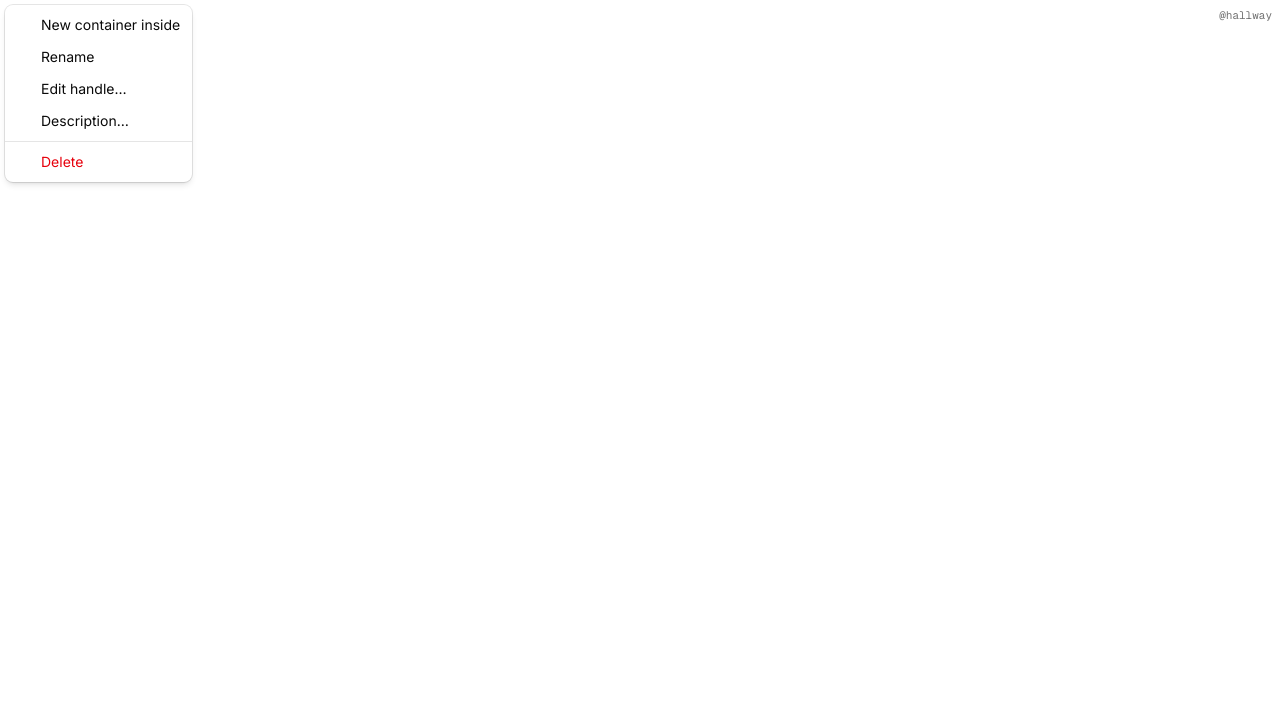
Test: deleting a scene with shots › counts its shots from the tree already loaded, fetching nothing
The width and height of the screenshot is (1280, 720).
Click the menu item "Delete": coordinates (62, 162) [41,153,83,170]
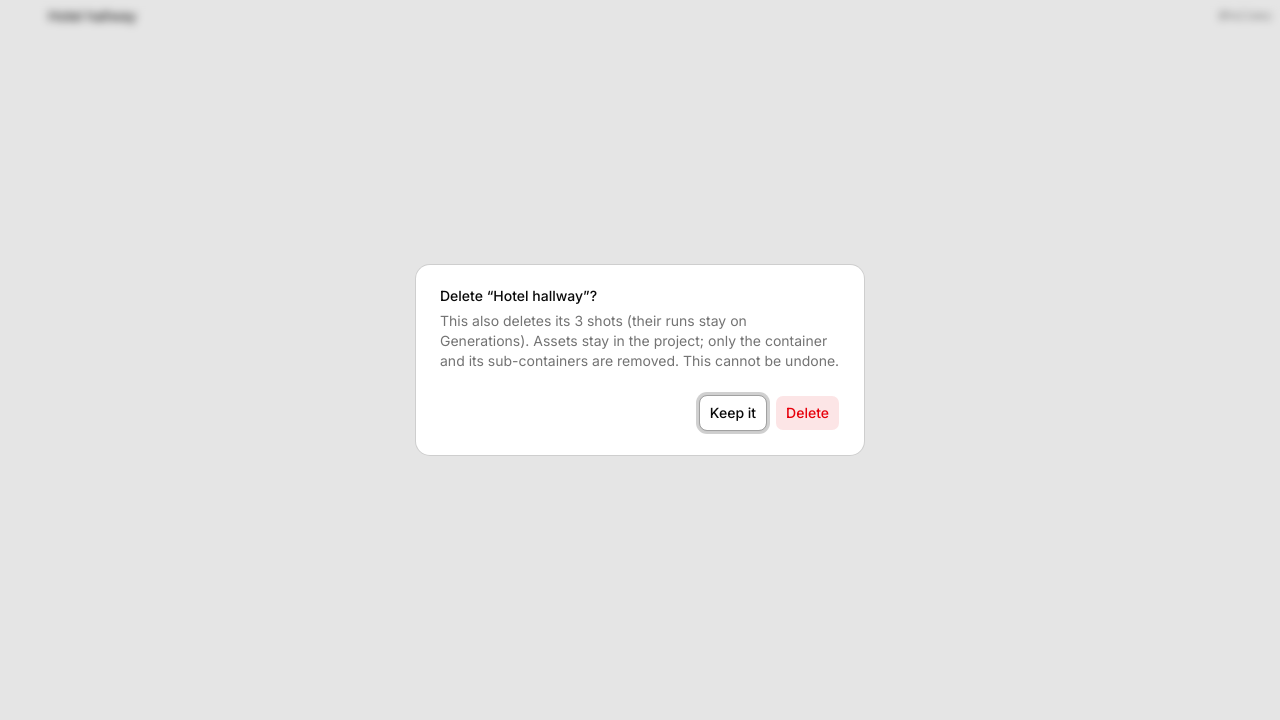
Expected: the dialog shows "This also deletes its 3 shots (their runs stay on Generations).", [440,312,747,349]
